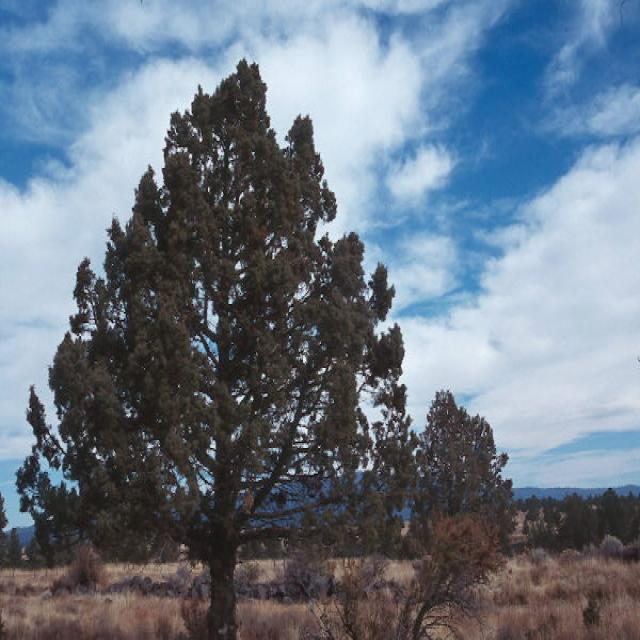Juniperus occidentalis: (20, 51, 418, 628), (396, 385, 514, 548)
